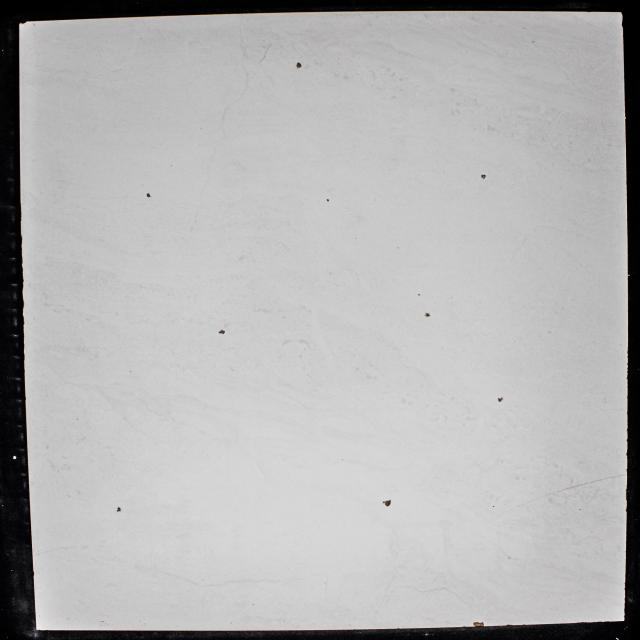edge-chipping: (473, 621, 484, 627)
hole: (382, 499, 392, 507), (424, 312, 431, 318), (296, 62, 302, 68), (218, 330, 226, 334), (116, 507, 122, 512), (146, 193, 151, 198), (498, 397, 503, 402), (481, 174, 486, 179), (326, 198, 330, 202), (492, 506, 495, 508), (418, 294, 420, 296)
line: (547, 474, 626, 494), (505, 495, 547, 512), (260, 42, 272, 62)
